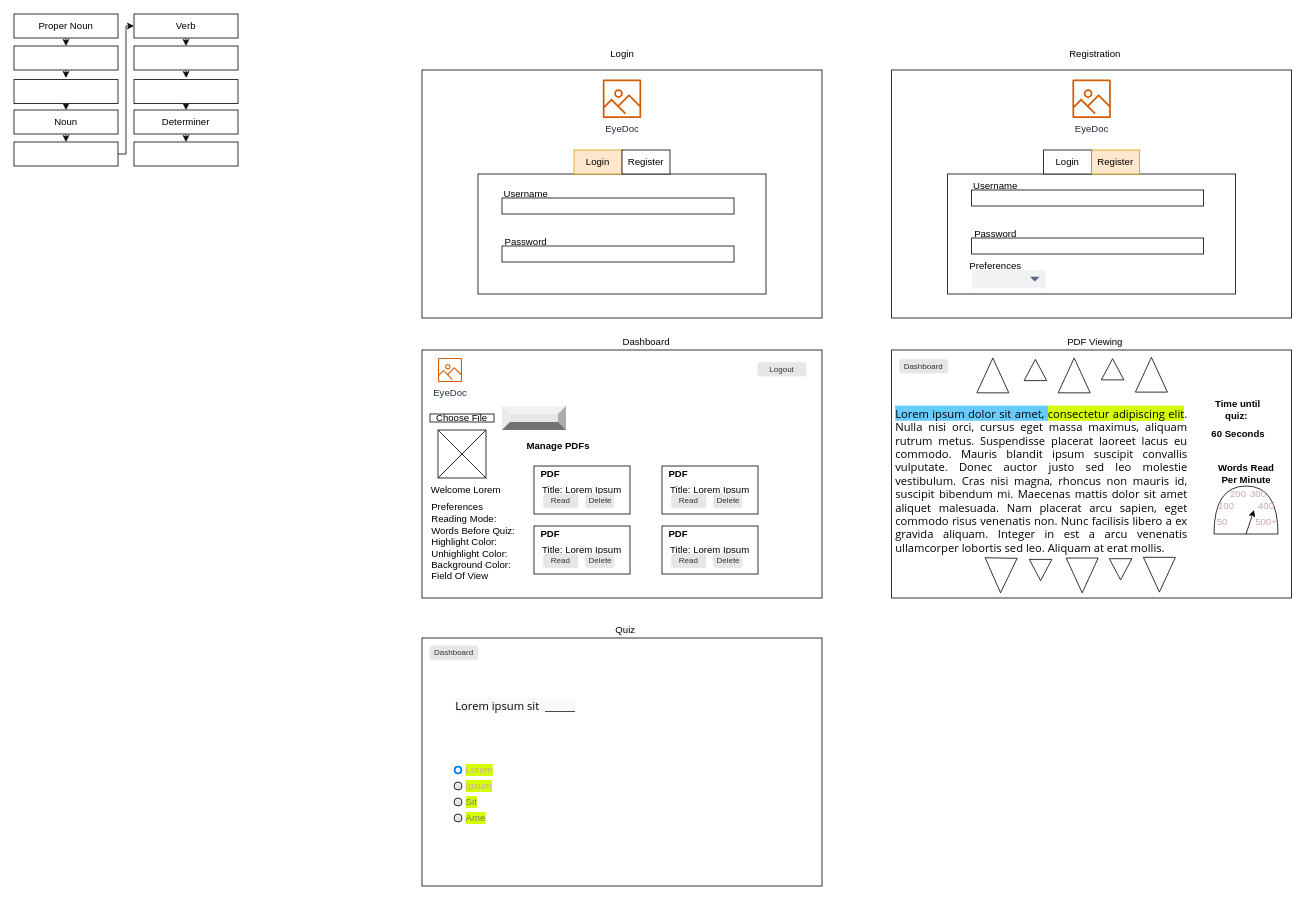
Image size: 1306x900. Some labels were removed from this diagram. The box of each missing label's shape, as (x1, y1, x2, y2) in pixels:
Adjective: (13, 141, 118, 166)
Adverb: (133, 45, 238, 70)
Auxiliary: (133, 141, 238, 166)
Default: (971, 270, 1046, 288)
Number: (13, 79, 118, 104)
Other: (133, 79, 238, 104)
Pronoun: (13, 45, 118, 70)
Upload PDF: (502, 406, 566, 430)
